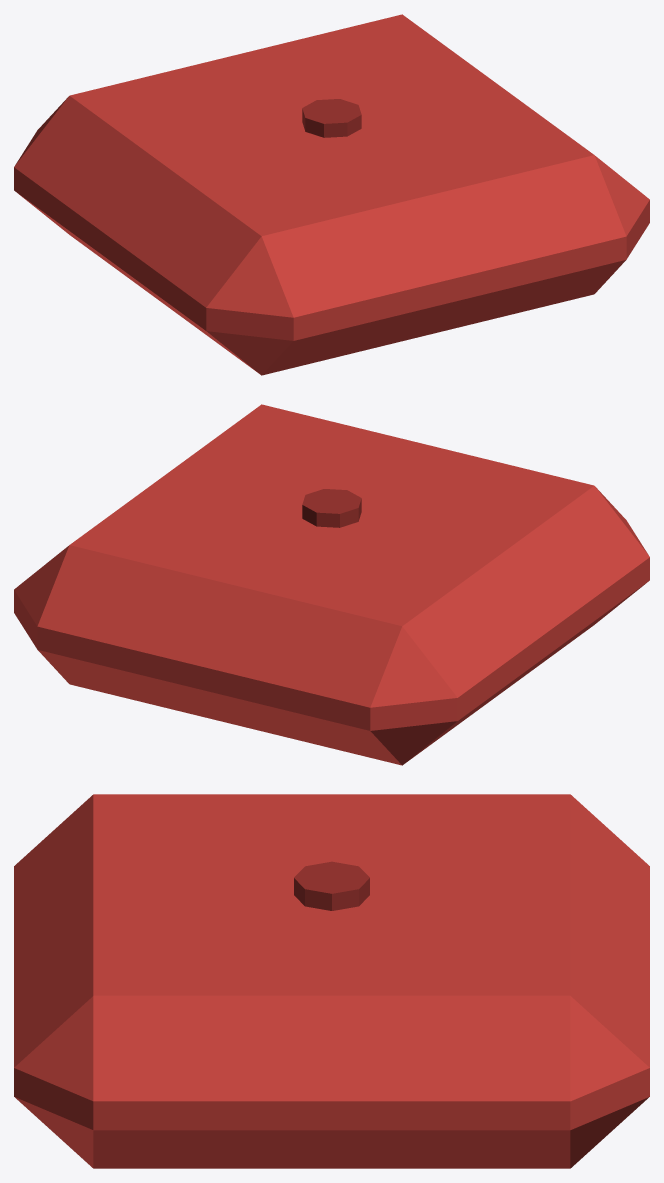
The model's file is prop_chair_p2.glb.
The picture shows the model from 3 angles, top to bottom: view 1: azimuth 30°, elevation 25°; view 2: azimuth 150°, elevation 25°; view 3: azimuth 270°, elevation 25°; orthographic projection. The views are drawn at different scales.
Parts seen in each view (by area): view 1: prop_chair_p2_mesh; view 2: prop_chair_p2_mesh; view 3: prop_chair_p2_mesh.
Part boxes in pixels (x1,y1,x2,y2): prop_chair_p2_mesh: [14, 14, 649, 375]; prop_chair_p2_mesh: [14, 404, 649, 765]; prop_chair_p2_mesh: [14, 794, 649, 1168].
Size of the model in its own units: 0.2 by 0.066 by 0.2.
